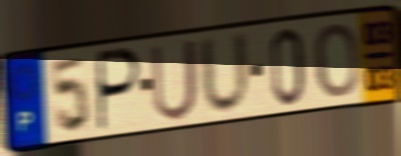0: (267, 24, 308, 109)
5: (48, 53, 92, 135)
O: (312, 21, 361, 101)
P: (96, 45, 144, 135)
U: (197, 28, 254, 119), (149, 35, 201, 124)
